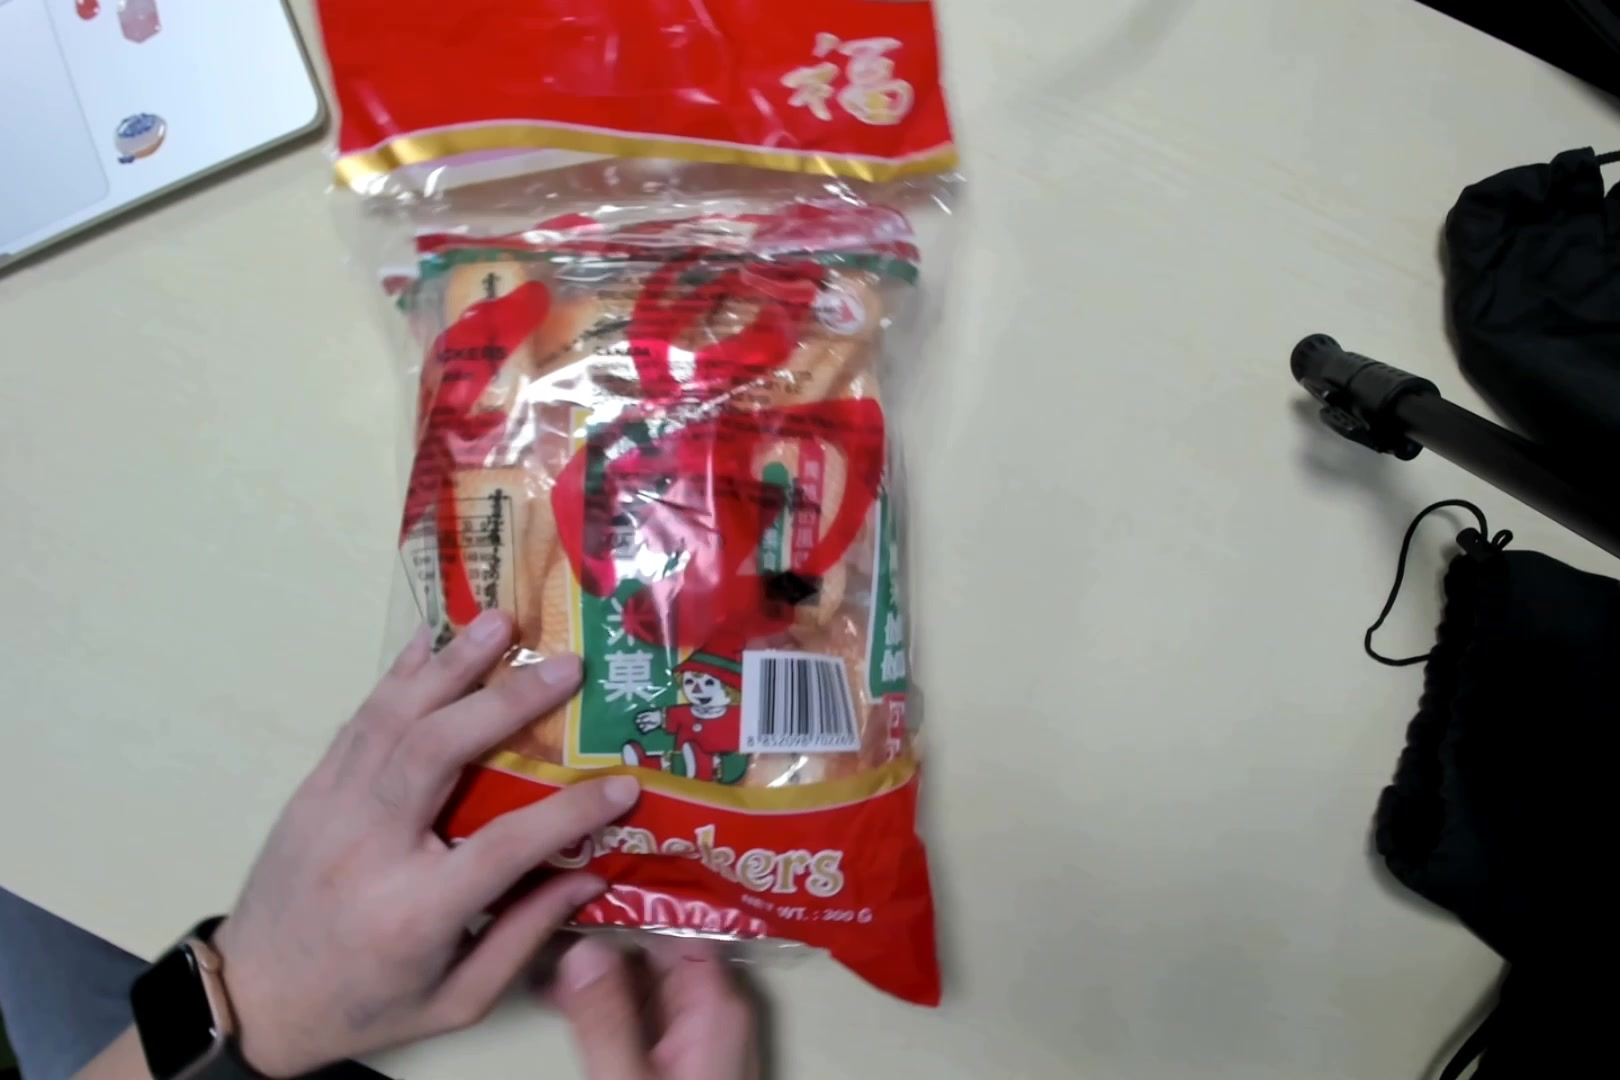PotatoChipsKeropok_300-399g_NonHalal_NonHealthy: (362, 14, 932, 959)
